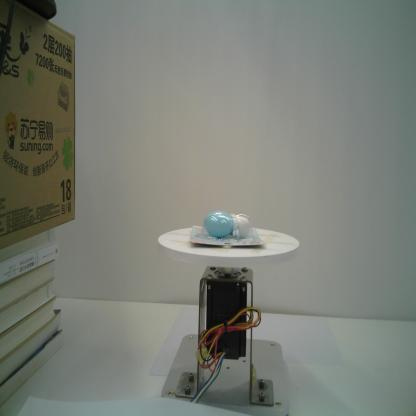Stationery: (190, 210, 266, 247)
